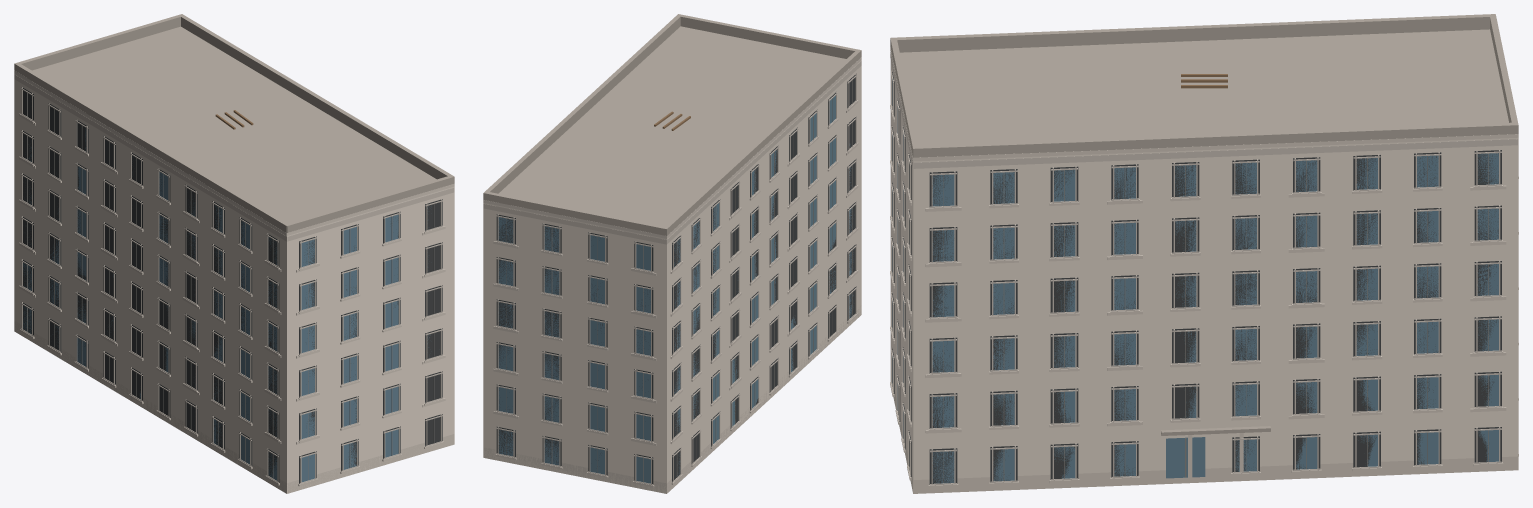
Rendered from cop_misto_loja_terrea_05__way_586695362.fbx.
3 renders of one model, left to right at view 1: azimuth 30°, elevation 25°; view 2: azimuth 150°, elevation 25°; view 3: azimuth 270°, elevation 25°, orthographic. The views are drawn at different scales.
Parts seen in each view (by area): view 1: cop_misto_loja_terrea_05__way_586695362_wall, cop_misto_loja_terrea_05__way_586695362_roof, cop_misto_loja_terrea_05__way_586695362_shadow, cop_misto_loja_terrea_05__way_586695362_trim, cop_misto_loja_terrea_05__way_586695362_glass, cop_misto_loja_terrea_05__way_586695362_stone, cop_misto_loja_terrea_05__way_586695362_metal; view 2: cop_misto_loja_terrea_05__way_586695362_wall, cop_misto_loja_terrea_05__way_586695362_roof, cop_misto_loja_terrea_05__way_586695362_glass, cop_misto_loja_terrea_05__way_586695362_shadow, cop_misto_loja_terrea_05__way_586695362_trim, cop_misto_loja_terrea_05__way_586695362_stone, cop_misto_loja_terrea_05__way_586695362_metal; view 3: cop_misto_loja_terrea_05__way_586695362_wall, cop_misto_loja_terrea_05__way_586695362_roof, cop_misto_loja_terrea_05__way_586695362_glass, cop_misto_loja_terrea_05__way_586695362_shadow, cop_misto_loja_terrea_05__way_586695362_trim, cop_misto_loja_terrea_05__way_586695362_stone, cop_misto_loja_terrea_05__way_586695362_metal.
Boxes of the visible parts, box(x1,y1,x2,y2) form: cop_misto_loja_terrea_05__way_586695362_wall: box(14, 73, 454, 493); cop_misto_loja_terrea_05__way_586695362_roof: box(14, 14, 454, 232); cop_misto_loja_terrea_05__way_586695362_shadow: box(23, 88, 442, 483); cop_misto_loja_terrea_05__way_586695362_trim: box(14, 74, 454, 483); cop_misto_loja_terrea_05__way_586695362_glass: box(23, 128, 430, 482); cop_misto_loja_terrea_05__way_586695362_stone: box(14, 70, 454, 493); cop_misto_loja_terrea_05__way_586695362_metal: box(27, 93, 434, 480); cop_misto_loja_terrea_05__way_586695362_wall: box(483, 60, 861, 493); cop_misto_loja_terrea_05__way_586695362_roof: box(483, 14, 861, 235); cop_misto_loja_terrea_05__way_586695362_glass: box(498, 95, 853, 483); cop_misto_loja_terrea_05__way_586695362_shadow: box(496, 73, 856, 483); cop_misto_loja_terrea_05__way_586695362_trim: box(483, 61, 861, 484); cop_misto_loja_terrea_05__way_586695362_stone: box(483, 57, 861, 493); cop_misto_loja_terrea_05__way_586695362_metal: box(506, 80, 852, 482); cop_misto_loja_terrea_05__way_586695362_wall: box(890, 60, 1518, 493); cop_misto_loja_terrea_05__way_586695362_roof: box(890, 14, 1518, 435); cop_misto_loja_terrea_05__way_586695362_glass: box(892, 79, 1498, 483); cop_misto_loja_terrea_05__way_586695362_shadow: box(891, 71, 1501, 484); cop_misto_loja_terrea_05__way_586695362_trim: box(890, 52, 1517, 485); cop_misto_loja_terrea_05__way_586695362_stone: box(890, 47, 1518, 493); cop_misto_loja_terrea_05__way_586695362_metal: box(892, 81, 1488, 483).
Bounding box in the file's own units: 1570 × 1877 × 3085.
